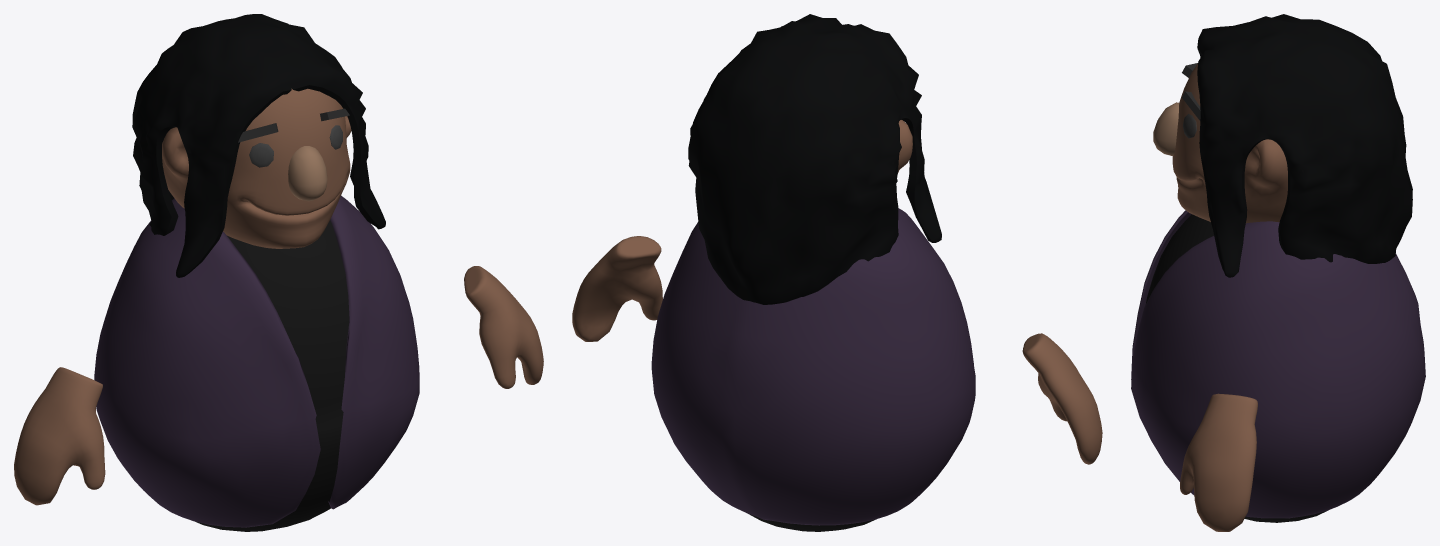
File: aisha_mesh.fbx
3 renders of one model, left to right at view 1: azimuth 30°, elevation 25°; view 2: azimuth 150°, elevation 25°; view 3: azimuth 270°, elevation 25°, orthographic.
Visible parts, largest first — view 1: Group31916, Group15976, Group18725, Group31901, Group65443, Group65442, Group65441; view 2: Group31916, Group15976, Group65442, Group65443, Group31901; view 3: Group31916, Group15976, Group65442, Group18725, Group31901, Group65441.
Boxes of the visible parts, left/top/right/bottom form: Group31916: left=94, top=195, right=419, bottom=527; Group15976: left=132, top=14, right=385, bottom=277; Group18725: left=162, top=88, right=351, bottom=248; Group31901: left=195, top=220, right=349, bottom=531; Group65443: left=14, top=367, right=105, bottom=505; Group65442: left=464, top=266, right=543, bottom=388; Group65441: left=288, top=146, right=327, bottom=201; Group31916: left=651, top=208, right=975, bottom=525; Group15976: left=688, top=14, right=941, bottom=304; Group65442: left=572, top=236, right=662, bottom=341; Group65443: left=1022, top=333, right=1102, bottom=464; Group31901: left=748, top=513, right=876, bottom=531; Group31916: left=1131, top=210, right=1425, bottom=518; Group15976: left=1197, top=14, right=1412, bottom=277; Group65442: left=1180, top=393, right=1257, bottom=531; Group18725: left=1172, top=64, right=1287, bottom=223; Group31901: left=1146, top=214, right=1328, bottom=522; Group65441: left=1153, top=102, right=1179, bottom=155.
Bounding box in the file's own units: 2.28 × 2.05 × 1.14.
